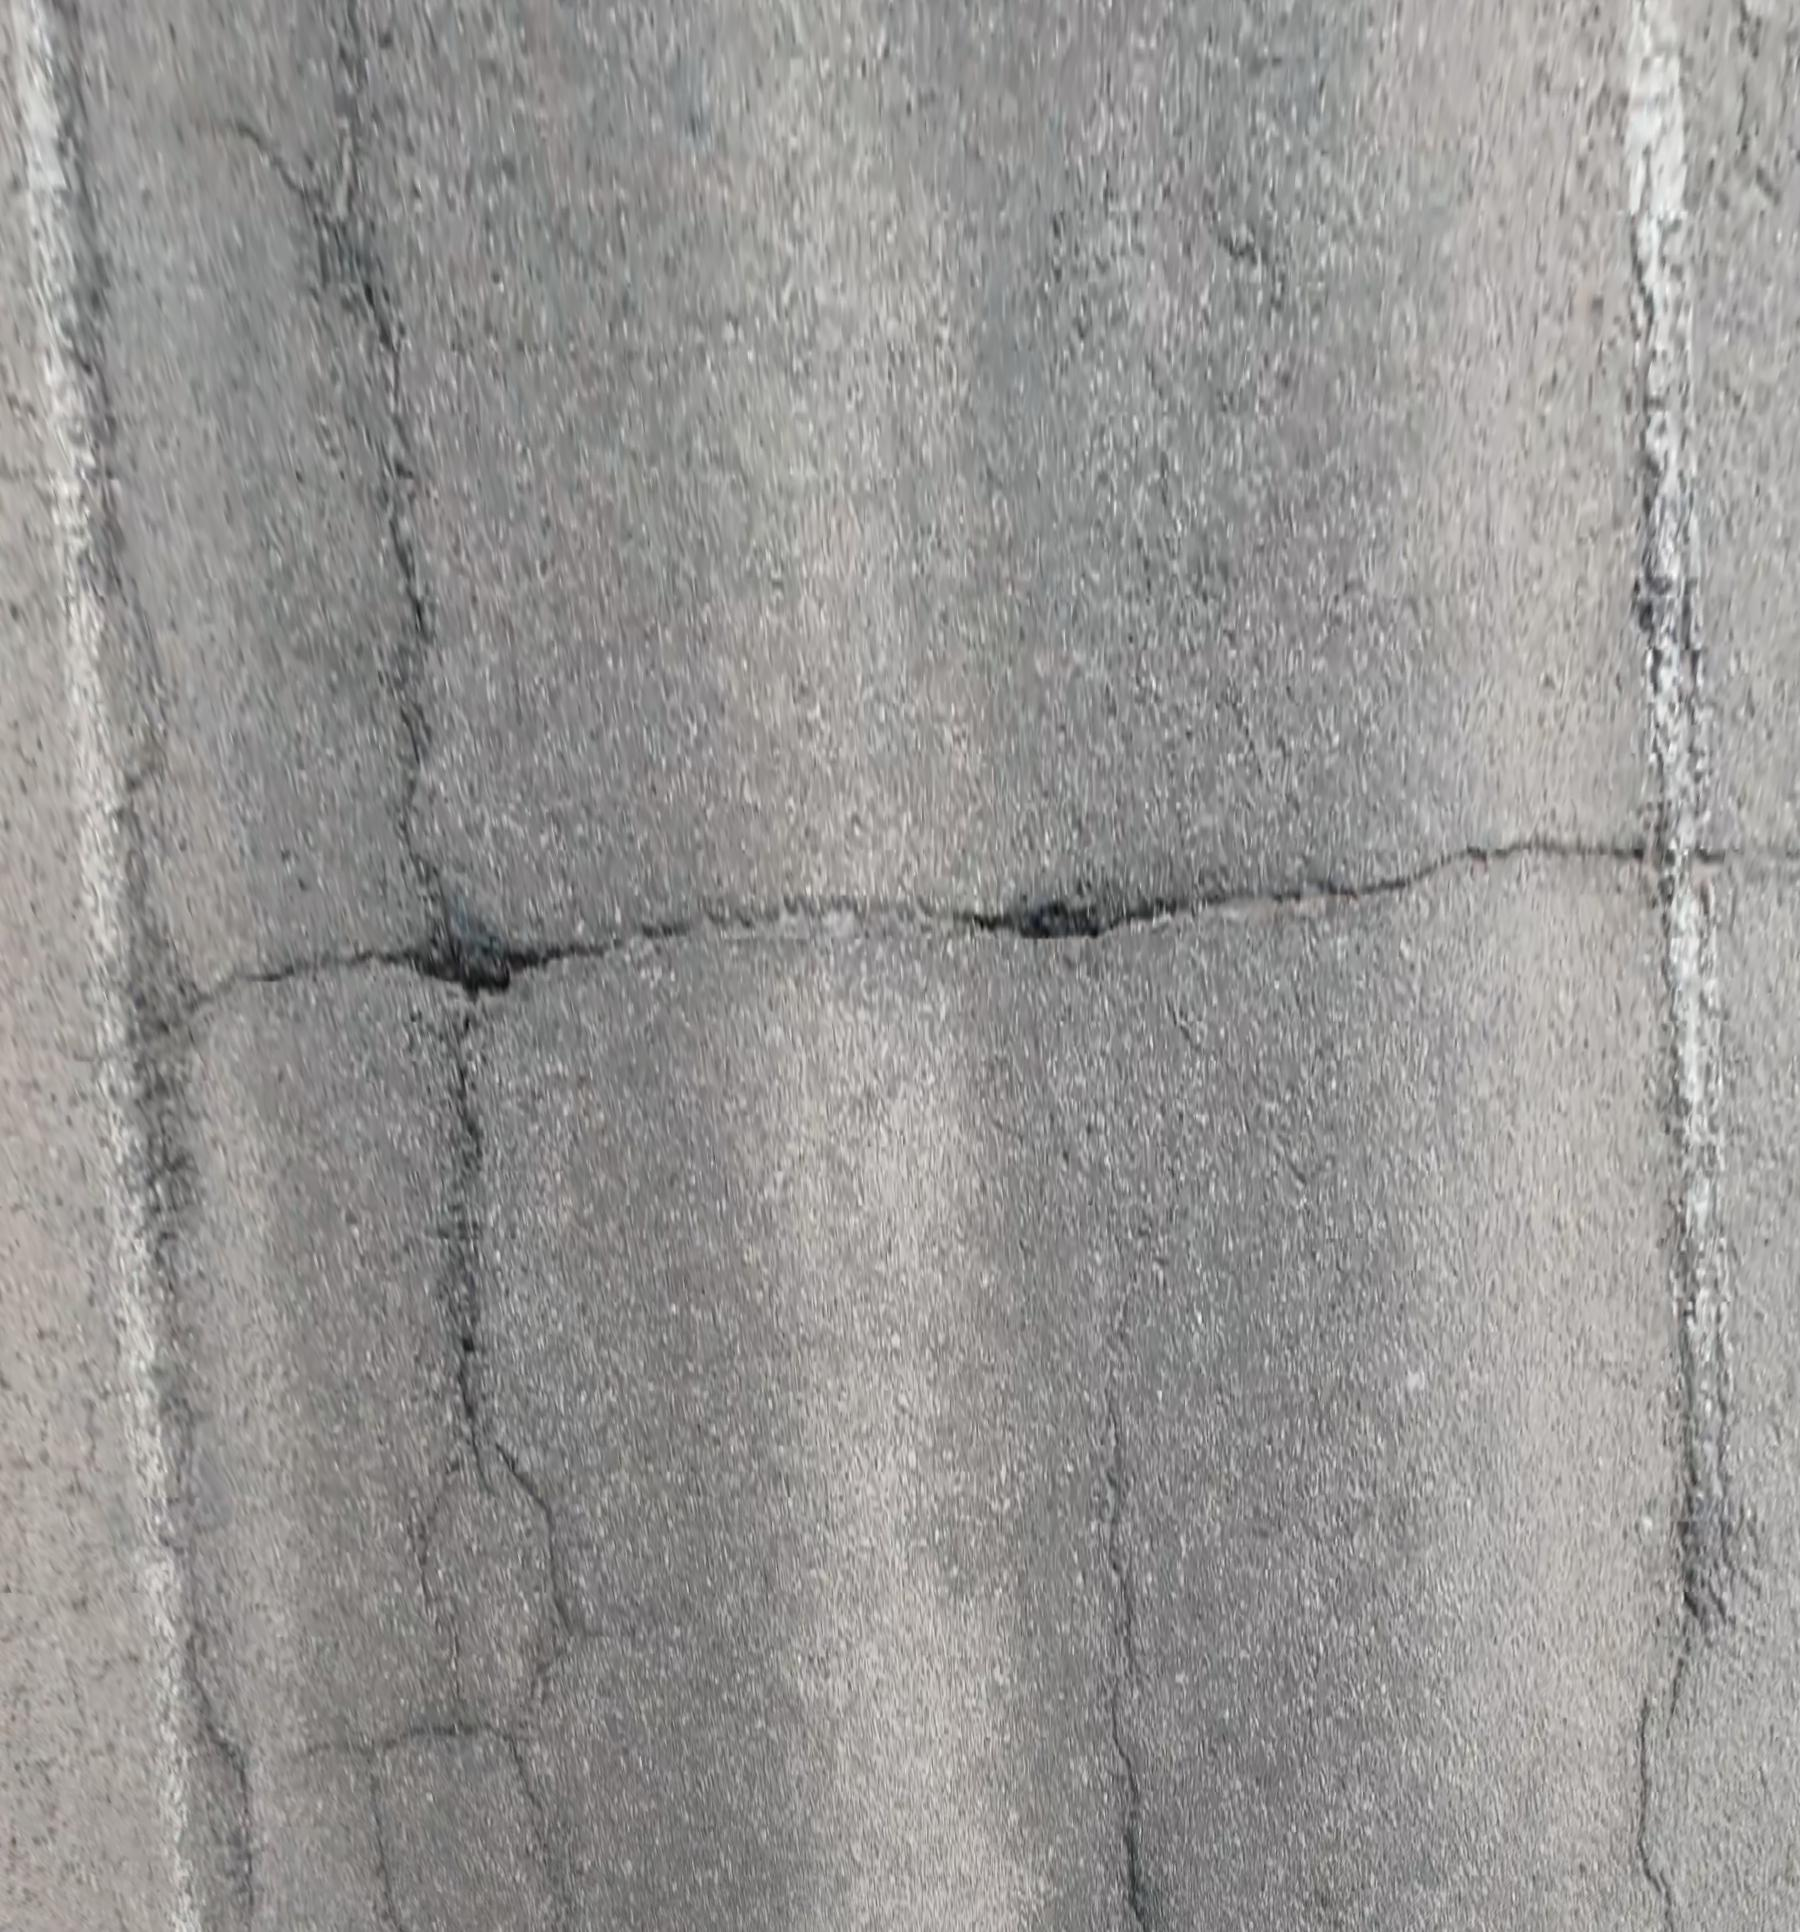pothole: (382, 861, 573, 996), (936, 878, 1211, 941)
